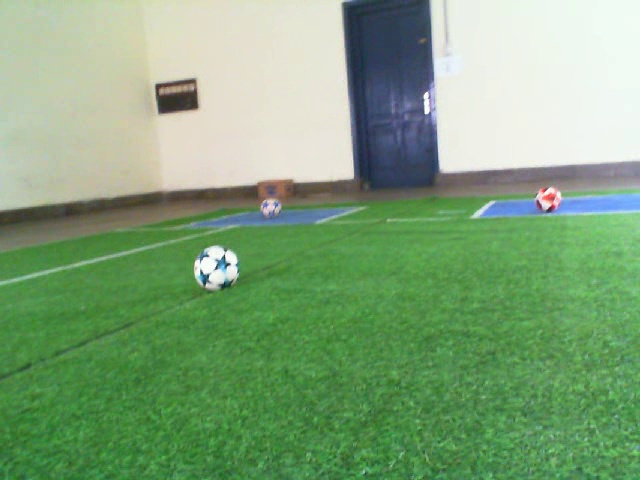ball: (192, 243, 240, 293), (533, 183, 563, 213), (259, 196, 284, 221)
